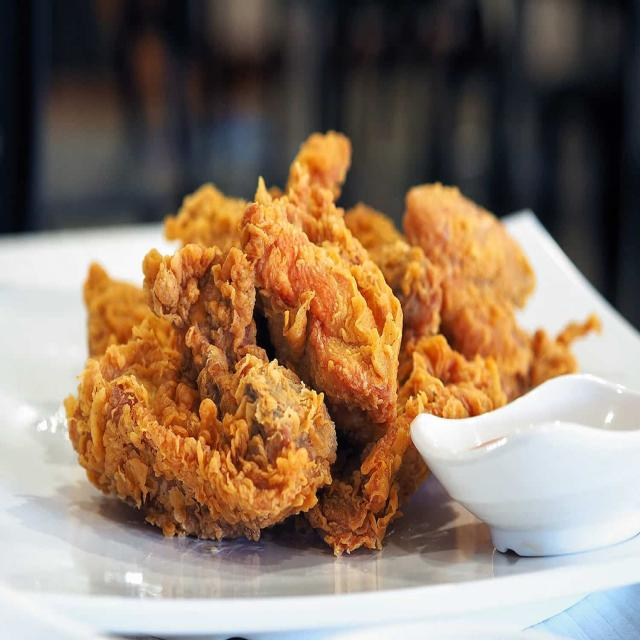Frango: (62, 127, 583, 554)
